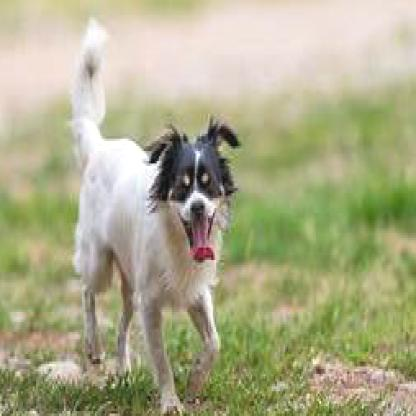dog: (67, 18, 246, 414)
